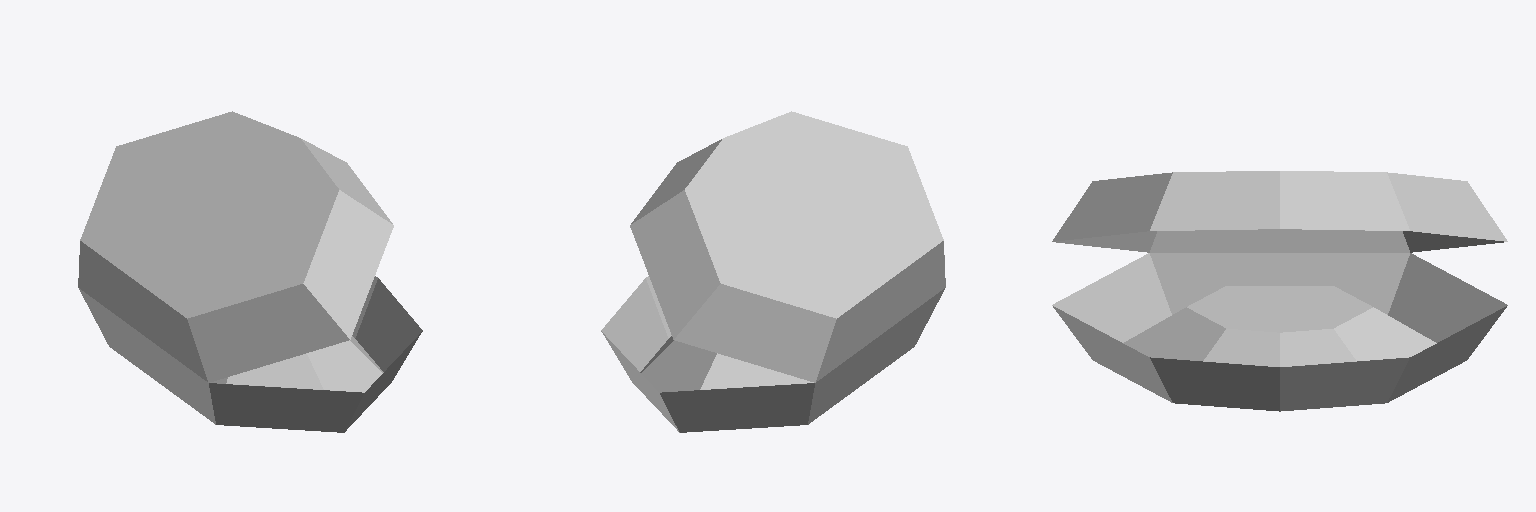
Rendered from mussel-open.obj.
The picture shows the model from 3 angles: view 1: azimuth 30°, elevation 25°; view 2: azimuth 150°, elevation 25°; view 3: azimuth 270°, elevation 25°; orthographic projection.
Parts seen in each view (by area): view 1: mussel-open; view 2: mussel-open; view 3: mussel-open.
Part boxes in pixels (bbox=[...]): mussel-open: bbox=[78, 111, 422, 432]; mussel-open: bbox=[601, 111, 945, 432]; mussel-open: bbox=[1052, 171, 1507, 411].
Size of the model in its own units: 0.0961 by 0.0804 by 0.1554.